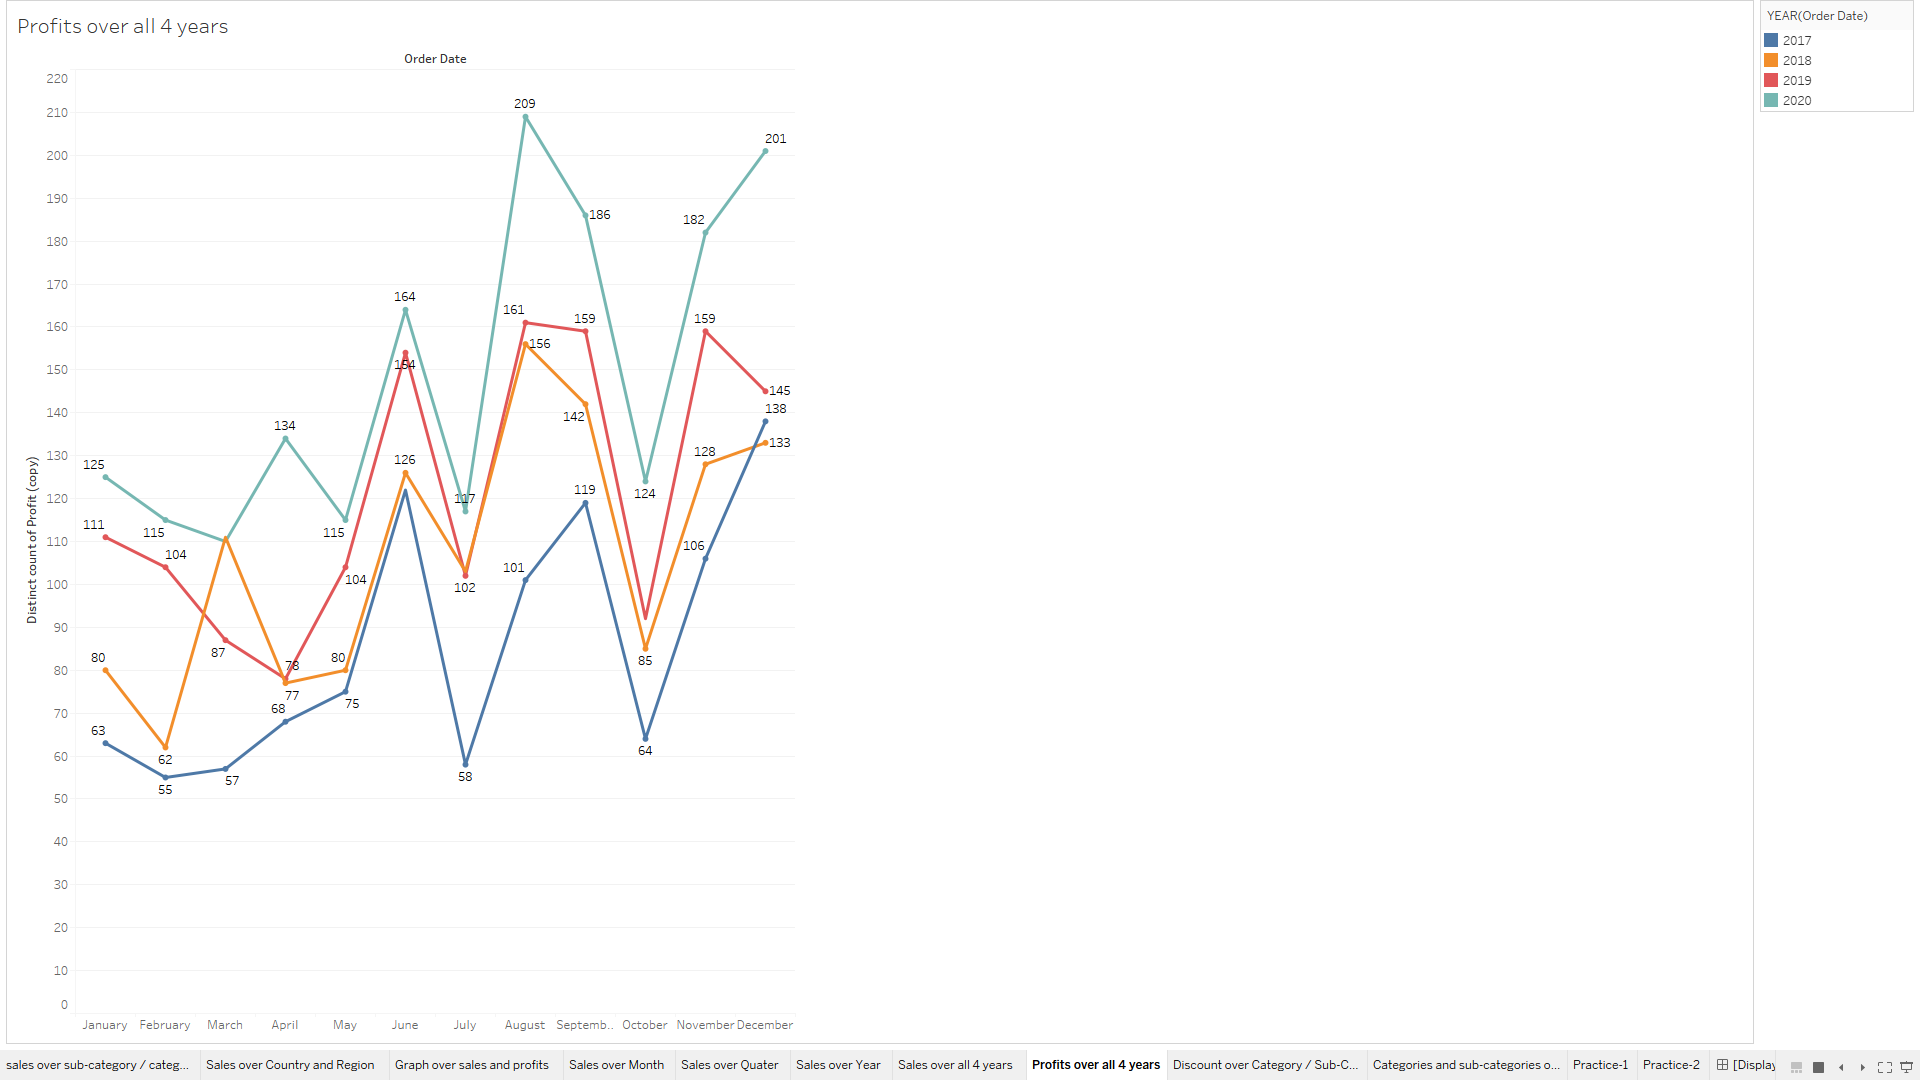

The page's visual inventory and layout, read from the dashboard file:
{"tool":"tableau","page":{"name":"[Graph showing profit's data of all 4 years]","canvas":[1000,1000],"units":"permille","ordinal":3},"visuals":[{"type":"title","box":[5,8.8,990,46.5]},{"type":"worksheet","title":"Profits over all 4 years","mark":"Automatic","rows":["Profit (copy)_855965427656007680"],"cols":["Order Date"],"box":[5,55.3,990,935.8]}]}

Visuals, with their boxes on the dashboard's canvas, which has no fixed pixel size, in thousandths of its width and height (x1, y1, x2, y2). These are canvas units, not pixel positions in the 1920x1080 screenshot, which may show the page scaled, cropped or inside an application window:
title: (x1=5, y1=9, x2=995, y2=55)
"Profits over all 4 years" worksheet: (x1=5, y1=55, x2=995, y2=991)
